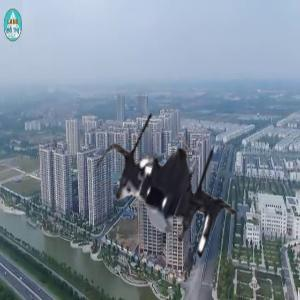drone: (86, 110, 254, 278)
